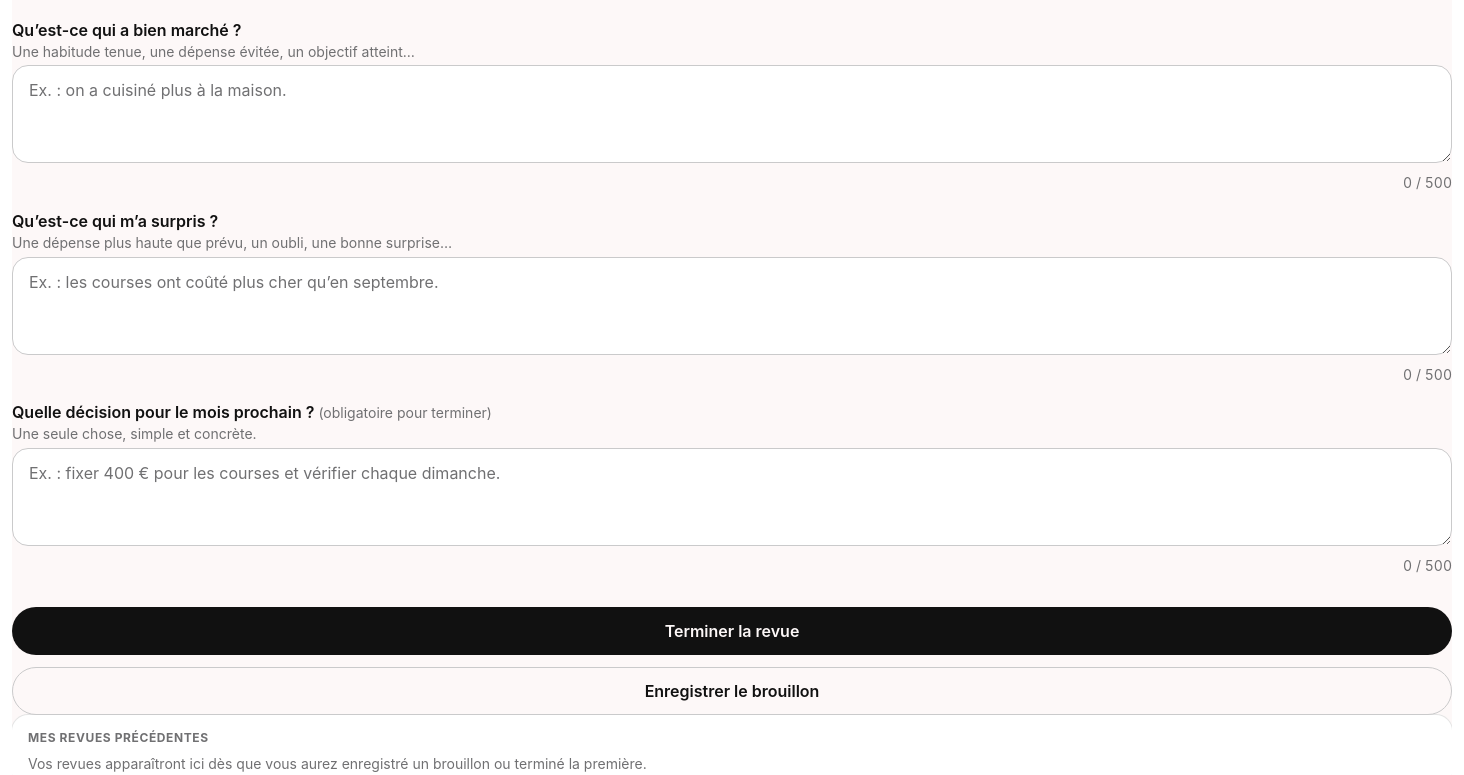
Scenario: RevuePage › step 2: three questions › finishes the review, then shows the completion banner and the recap
(page scrolled)
In the text box labelled "Quelle décision": (732, 497) [12,448,1452,546], type "Fixer 400 € pour les courses"
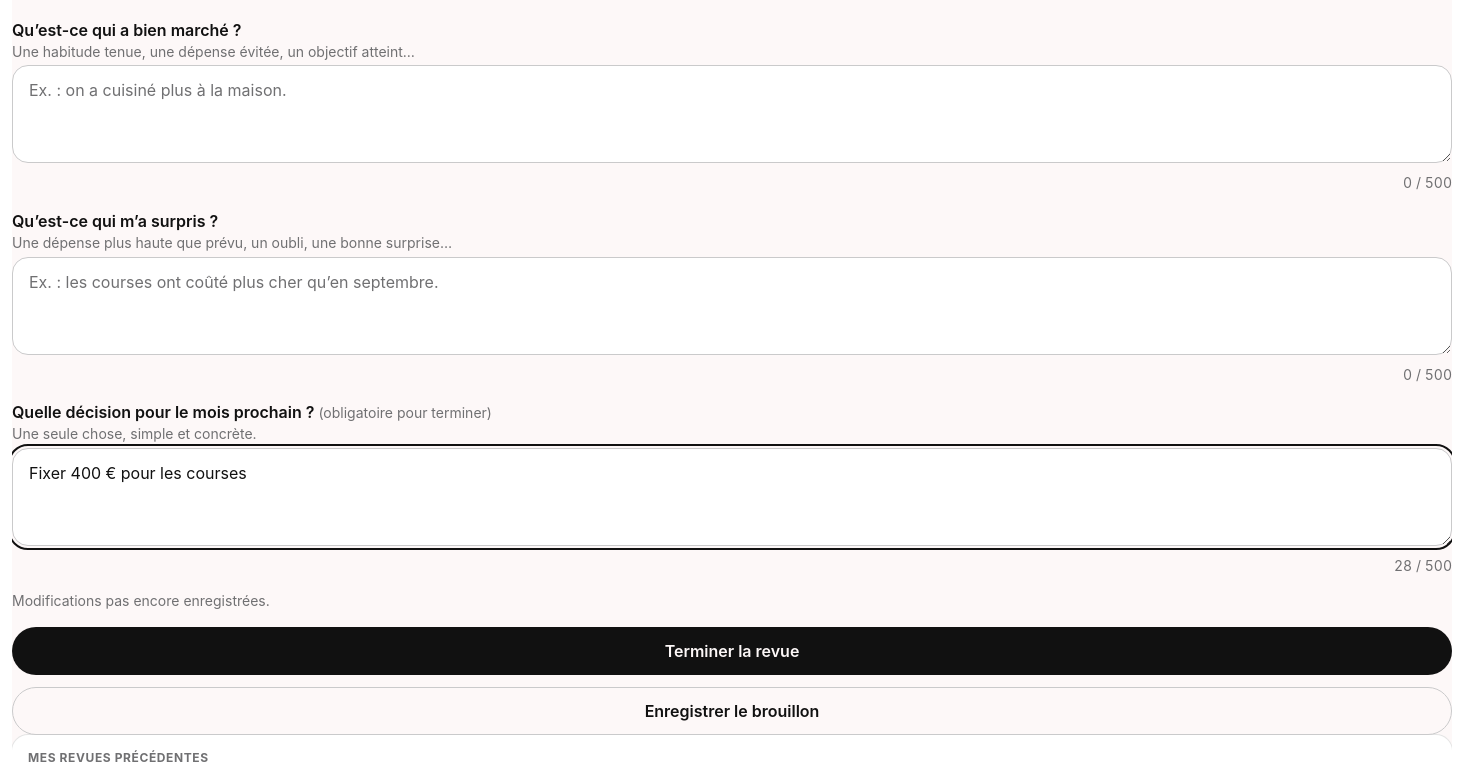
Click the button "Terminer la revue": (732, 651) [12,627,1452,675]
(page scrolled)
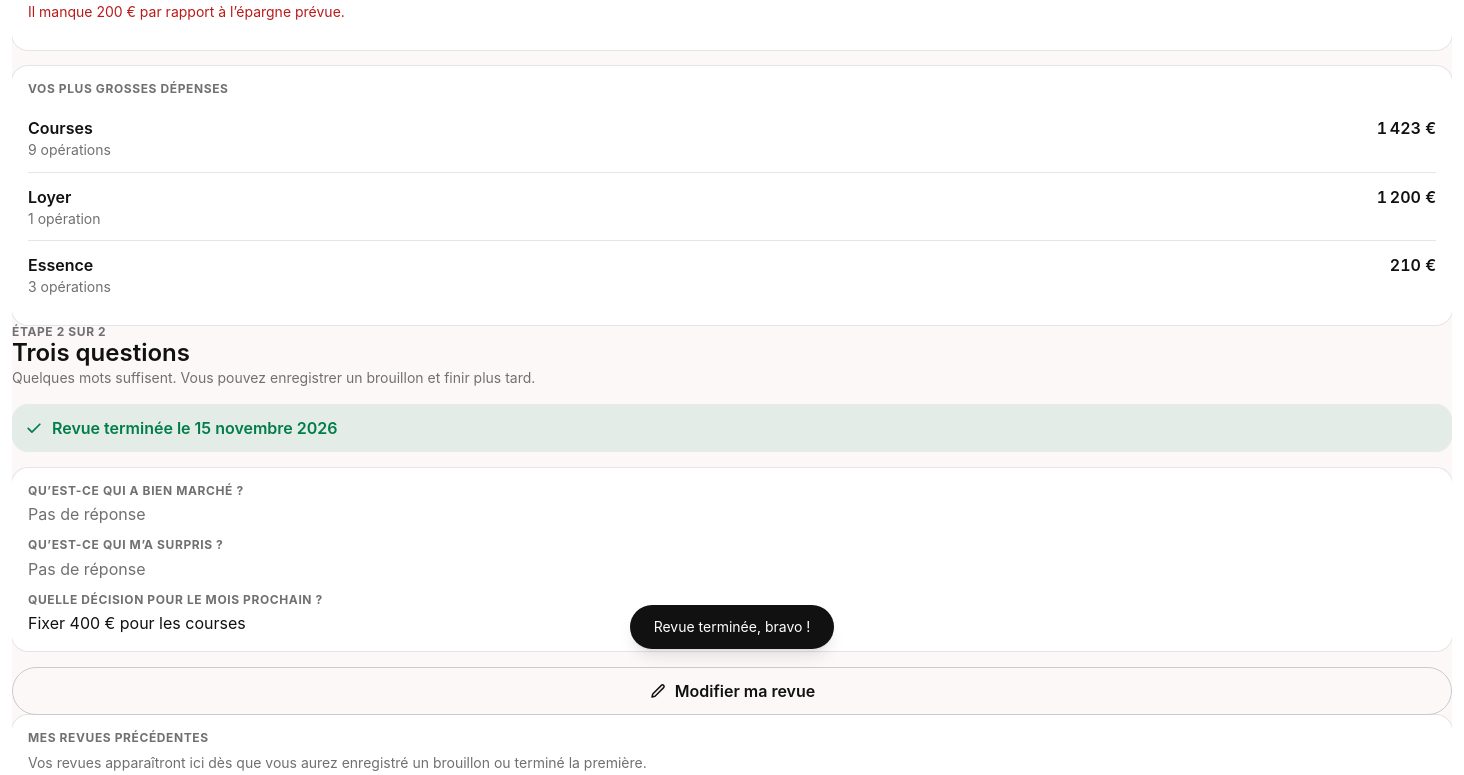
Check: the text "Revue terminée le 15 novembre 2026" is shown, box [12,404,1452,452]
Check: the text "Fixer 400 € pour les courses" is shown, box [28,613,246,633]
Check: the button "Terminer la revue" is gone
